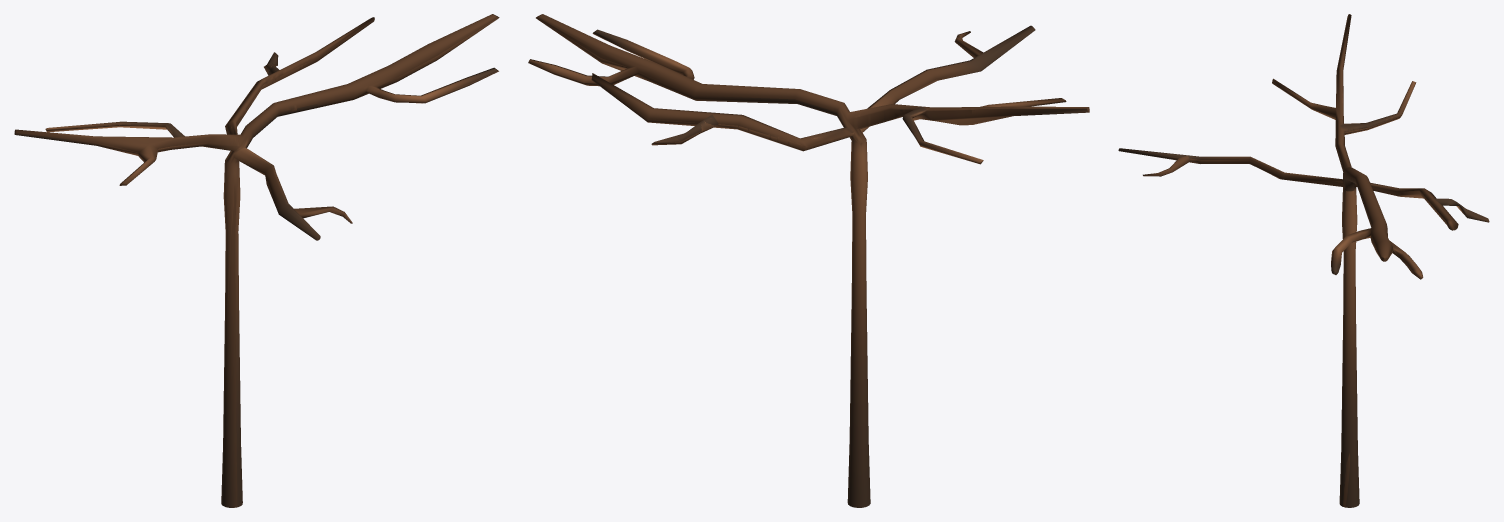
The model's file is SnowTree.fbx.
The picture shows the model from 3 angles, left to right: view 1: azimuth 30°, elevation 25°; view 2: azimuth 150°, elevation 25°; view 3: azimuth 270°, elevation 25°; orthographic projection. The views are drawn at different scales.
Parts seen in each view (by area): view 1: Cylinder; view 2: Cylinder; view 3: Cylinder.
Boxes of the visible parts, left/top/right/bottom form: Cylinder: left=14, top=14, right=499, bottom=507; Cylinder: left=528, top=14, right=1089, bottom=507; Cylinder: left=1118, top=14, right=1489, bottom=507.
Size of the model in its own units: 7338 by 5946 by 5095.
Materials: 1 (1 with a texture image).
